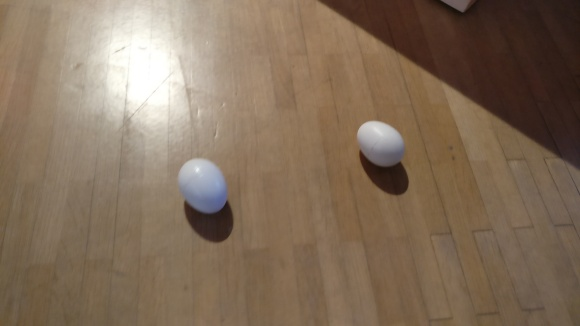egg: (178, 156, 226, 220), (355, 120, 406, 172)
